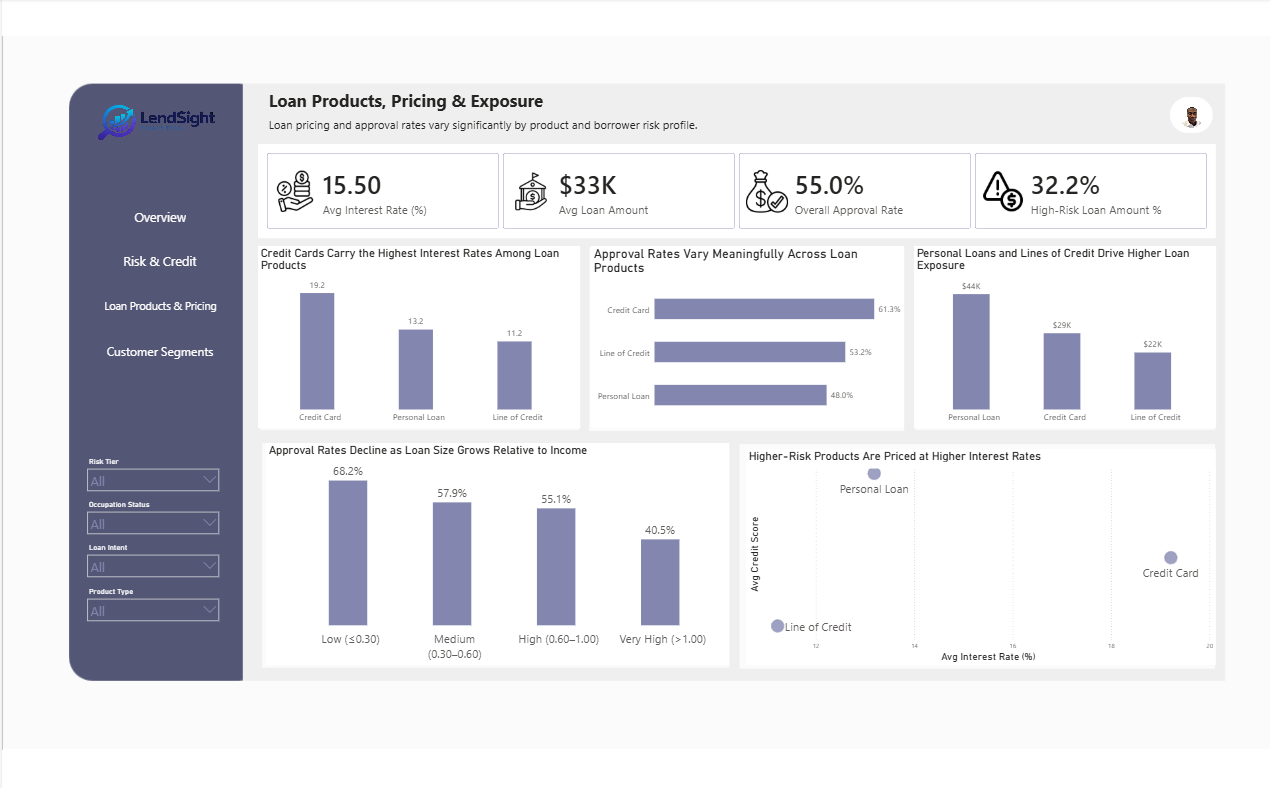

This screenshot's page, from the dashboard's own definition file:
{"tool":"powerbi","page":{"name":"Loan Products & Pricing","canvas":[2400,1500],"ordinal":2},"visuals":[{"type":"clusteredColumnChart","title":"Credit Cards Carry the Highest Interest Rates Among Loan Products","fields":{"Category":["Loan_data.product_type"],"Y":["Measure Table.Avg Interest Rate"]},"box":[483.8,468.7,608.5,343.9],"z":0},{"type":"scatterChart","title":"Higher-Risk Products Are Priced at Higher Interest Rates","fields":{"X":["Measure Table.Avg Interest Rate"],"Y":["Measure Table.Avg Credit Score"],"Category":["Loan_data.product_type"]},"box":[1406,852.3,888.2,408.2],"z":1000},{"type":"clusteredColumnChart","title":"Approval Rates Decline as Loan Size Grows Relative to Income","fields":{"Category":["Loan_data.LTI Band"],"Y":["Measure Table.Approval Rate %"]},"box":[498.9,840.9,875,419.5],"z":2000},{"type":"clusteredBarChart","title":"Approval Rates Vary Meaningfully Across Loan Products","fields":{"Y":["Measure Table.Approval Rate %"],"Category":["Loan_data.product_type"]},"box":[1113.1,468.7,591.5,343.9],"z":3000},{"type":"clusteredColumnChart","title":"Personal Loans and Lines of Credit Drive Higher Loan Exposure","fields":{"Category":["Loan_data.product_type"],"Y":["Measure Table.Avg Loan Amount"]},"box":[1723.5,468.7,570.7,343.9],"z":4000},{"type":"cardVisual","fields":{"Data":["DAX Measures.Avg Interest Rate (%)","DAX Measures.Avg Loan Amount","DAX Measures.Overall Approval Rate","DAX Measures.High-Risk Loan Amount %"]},"box":[483.8,275.9,1810.4,177.6],"z":5000},{"type":"textbox","box":[498.9,166.3,674.6,54.8],"z":6000},{"type":"slicer","fields":{"Values":["Loan_data.Risk Tier"]},"box":[151.7,861.3,269.3,82.2],"z":7000},{"type":"slicer","fields":{"Values":["Loan_data.occupation_status"]},"box":[151.7,943.5,269.3,80.8],"z":8000},{"type":"slicer","fields":{"Values":["Loan_data.loan_intent"]},"box":[151.7,1024.3,269.3,82.2],"z":9000},{"type":"slicer","fields":{"Values":["Loan_data.product_type"]},"box":[151.7,1106.5,269.3,80.8],"z":10000},{"type":"actionButton","box":[175.7,387.4,245.7,51],"z":11000},{"type":"actionButton","box":[175.7,468.7,245.7,54.8],"z":12000},{"type":"actionButton","box":[177.6,549.9,243.8,62.4],"z":13000},{"type":"actionButton","box":[175.7,640.6,245.7,54.8],"z":14000},{"type":"image","box":[2207.2,187.1,81.3,68],"z":14001},{"type":"image","box":[122.8,147.4,332.6,198.4],"z":14002},{"type":"textbox","box":[498.9,219.2,943,54.8],"z":14003}]}

Visuals, with their boxes on the page's 2400x1500 design canvas (x1, y1, x2, y2). These are canvas units, not pixel positions in the 1270x788 screenshot, which may show the page scaled, cropped or inside an application window:
"Credit Cards Carry the Highest Interest Rates Among Loan Products" clusteredColumnChart: {"left": 484, "top": 469, "right": 1092, "bottom": 813}
"Higher-Risk Products Are Priced at Higher Interest Rates" scatterChart: {"left": 1406, "top": 852, "right": 2294, "bottom": 1260}
"Approval Rates Decline as Loan Size Grows Relative to Income" clusteredColumnChart: {"left": 499, "top": 841, "right": 1374, "bottom": 1260}
"Approval Rates Vary Meaningfully Across Loan Products" clusteredBarChart: {"left": 1113, "top": 469, "right": 1705, "bottom": 813}
"Personal Loans and Lines of Credit Drive Higher Loan Exposure" clusteredColumnChart: {"left": 1724, "top": 469, "right": 2294, "bottom": 813}
cardVisual - DAX Measures.Avg Interest Rate (%) x DAX Measures.Avg Loan Amount: {"left": 484, "top": 276, "right": 2294, "bottom": 454}
textbox: {"left": 499, "top": 166, "right": 1174, "bottom": 221}
slicer - Loan_data.Risk Tier: {"left": 152, "top": 861, "right": 421, "bottom": 944}
slicer - Loan_data.occupation_status: {"left": 152, "top": 944, "right": 421, "bottom": 1024}
slicer - Loan_data.loan_intent: {"left": 152, "top": 1024, "right": 421, "bottom": 1106}
slicer - Loan_data.product_type: {"left": 152, "top": 1106, "right": 421, "bottom": 1187}
actionButton: {"left": 176, "top": 387, "right": 421, "bottom": 438}
actionButton: {"left": 176, "top": 469, "right": 421, "bottom": 524}
actionButton: {"left": 178, "top": 550, "right": 421, "bottom": 612}
actionButton: {"left": 176, "top": 641, "right": 421, "bottom": 695}
image: {"left": 2207, "top": 187, "right": 2288, "bottom": 255}
image: {"left": 123, "top": 147, "right": 455, "bottom": 346}
textbox: {"left": 499, "top": 219, "right": 1442, "bottom": 274}
